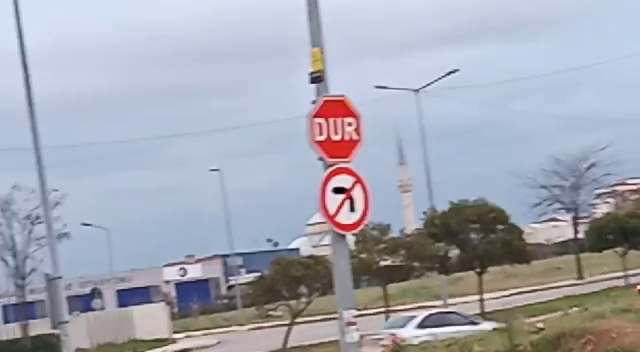no_left: (316, 164, 372, 237)
stop: (302, 91, 367, 167)
